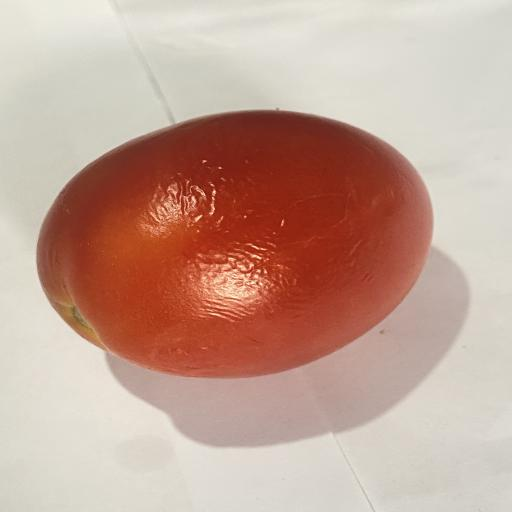spoiled: (37, 110, 432, 377)
